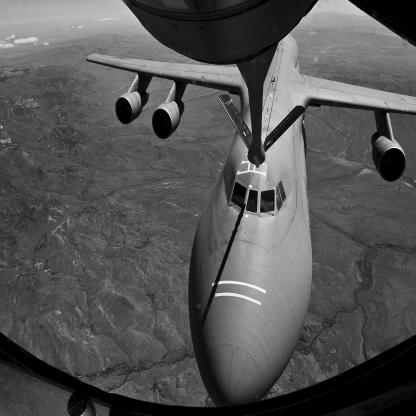C5: (87, 34, 416, 408)
